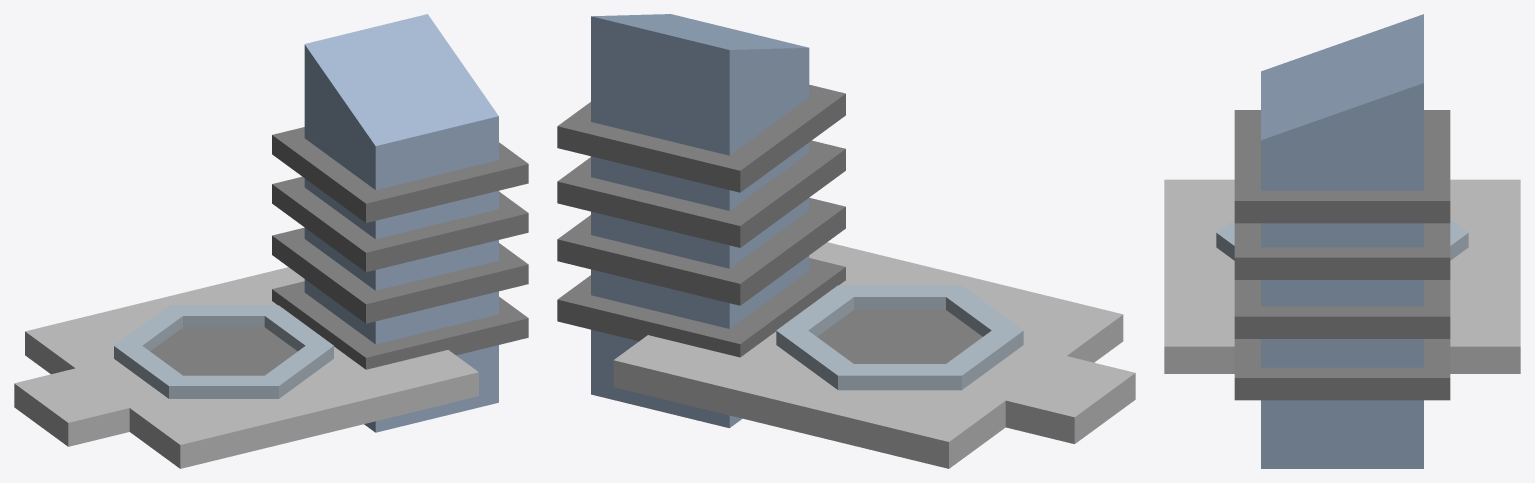
The model's file is piste d'atterissage.fbx.
The picture shows the model from 3 angles, left to right: view 1: azimuth 30°, elevation 25°; view 2: azimuth 150°, elevation 25°; view 3: azimuth 270°, elevation 25°; orthographic projection. The views are drawn at different scales.
Visible parts, largest first — view 1: Cube.001, Cube, Cylinder, Cube.003, Cube.005, Cube.004, Cube.002; view 2: Cube, Cube.001, Cylinder, Cube.005, Cube.003, Cube.004, Cube.002; view 3: Cube.001, Cube, Cube.005, Cube.002, Cube.003, Cube.004, Cylinder.
Part boxes in pixels (x1=…): Cube.001: x1=304, y1=14, x2=498, y2=432; Cube: x1=14, y1=267, x2=478, y2=468; Cylinder: x1=114, y1=305, x2=333, y2=398; Cube.003: x1=272, y1=227, x2=528, y2=323; Cube.005: x1=272, y1=127, x2=528, y2=222; Cube.004: x1=272, y1=176, x2=528, y2=272; Cube.002: x1=272, y1=281, x2=528, y2=369; Cube: x1=613, y1=242, x2=1135, y2=468; Cube.001: x1=591, y1=14, x2=809, y2=428; Cylinder: x1=776, y1=285, x2=1023, y2=390; Cube.005: x1=557, y1=84, x2=845, y2=192; Cube.003: x1=557, y1=198, x2=845, y2=305; Cube.004: x1=557, y1=140, x2=845, y2=247; Cube.002: x1=557, y1=258, x2=845, y2=357; Cube.001: x1=1261, y1=14, x2=1423, y2=468; Cube: x1=1164, y1=179, x2=1520, y2=373; Cube.005: x1=1234, y1=110, x2=1450, y2=223; Cube.002: x1=1234, y1=339, x2=1450, y2=400; Cube.003: x1=1234, y1=280, x2=1450, y2=338; Cube.004: x1=1234, y1=223, x2=1450, y2=279; Cylinder: x1=1216, y1=219, x2=1468, y2=260.
Bounding box in the file's own units: 462 × 337 × 282.
